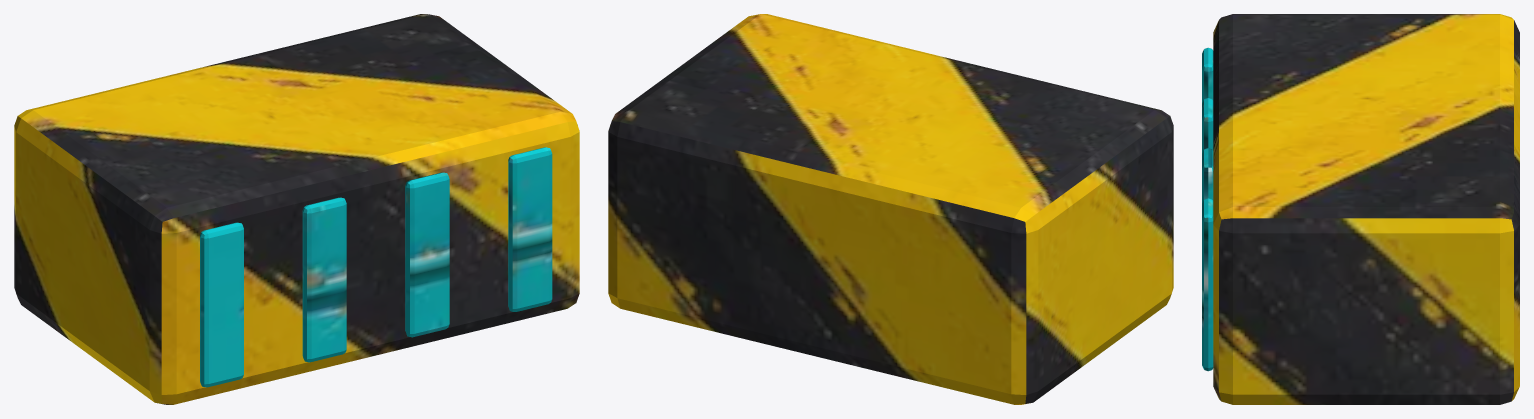
File: barrera.glb
The picture shows the model from 3 angles, left to right: view 1: azimuth 30°, elevation 25°; view 2: azimuth 150°, elevation 25°; view 3: azimuth 270°, elevation 25°; orthographic projection.
Visible parts, largest first — view 1: barrera; view 2: barrera; view 3: barrera.
Part boxes in pixels (bbox=[...]): barrera: bbox=[14, 14, 579, 404]; barrera: bbox=[608, 14, 1173, 404]; barrera: bbox=[1202, 14, 1519, 404].
Size of the model in its own units: 1 by 0.44 by 0.6425.
Materials: 2 (2 with a texture image).
